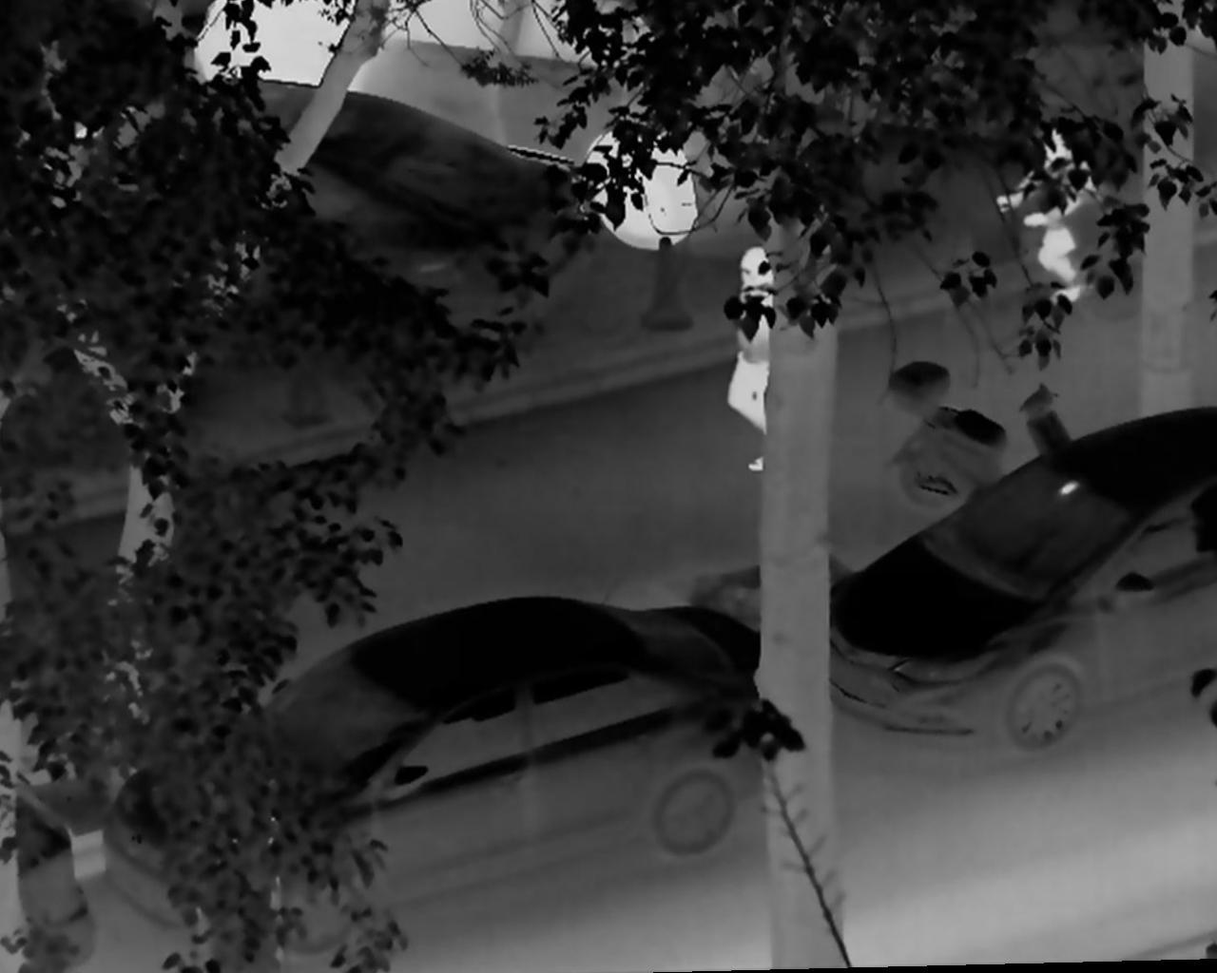person: (984, 115, 1094, 318), (720, 246, 792, 473)
